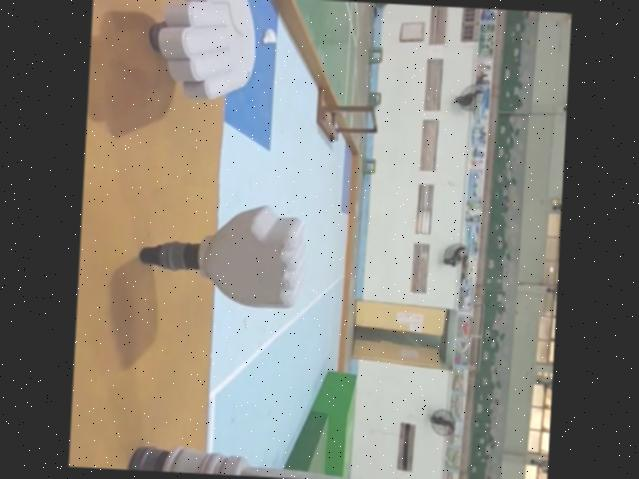Fist: (130, 194, 312, 314)
Hand: (139, 0, 258, 104)
Sph: (117, 440, 447, 479)
